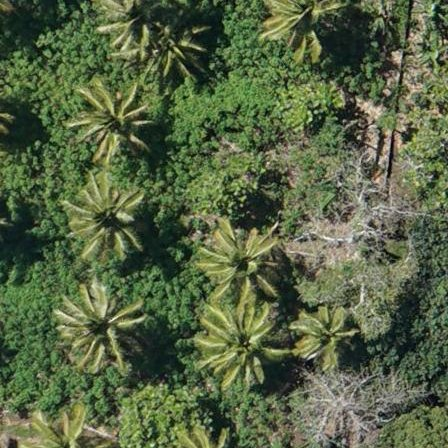palm_tree: (65, 70, 153, 164), (189, 288, 275, 380), (62, 280, 145, 368), (64, 169, 144, 255), (202, 222, 273, 297), (98, 1, 175, 60), (254, 1, 335, 50), (292, 302, 351, 365)
